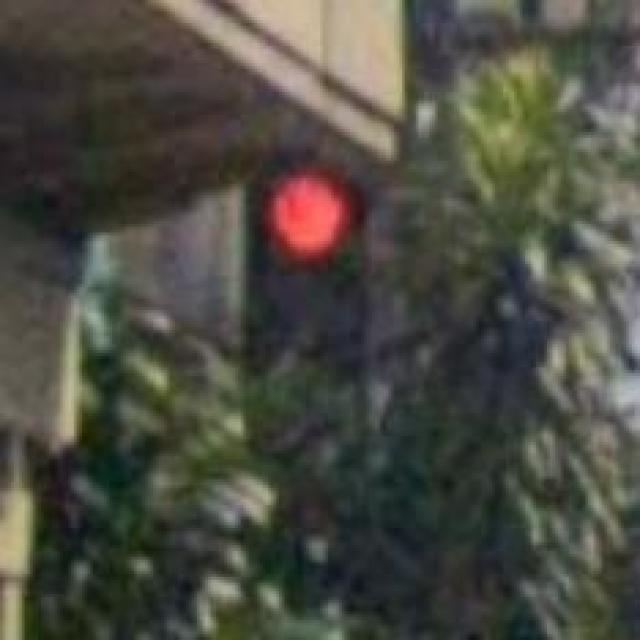red_light: (246, 170, 372, 365)
